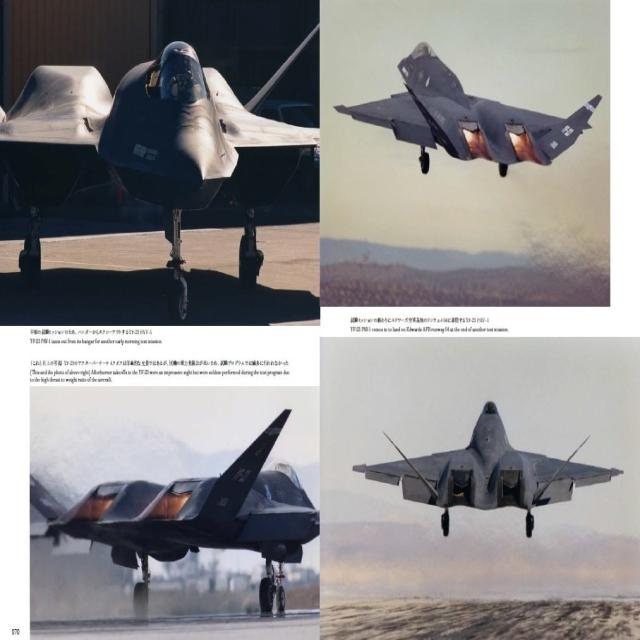MIL_Plane: (1, 1, 319, 326), (29, 408, 320, 615), (352, 400, 625, 538), (333, 41, 603, 177)
